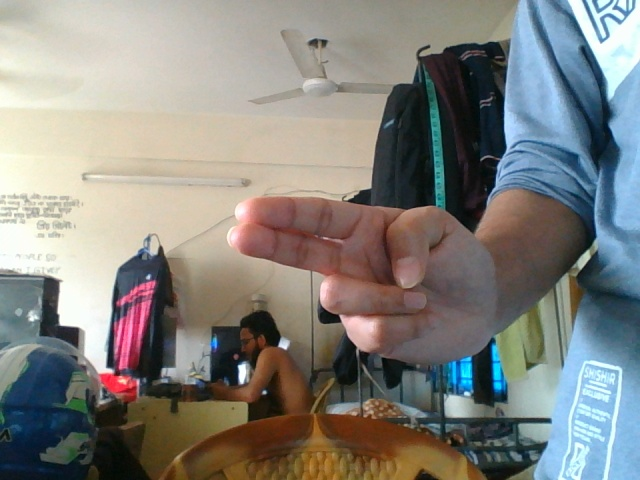ha: (220, 184, 546, 364)
